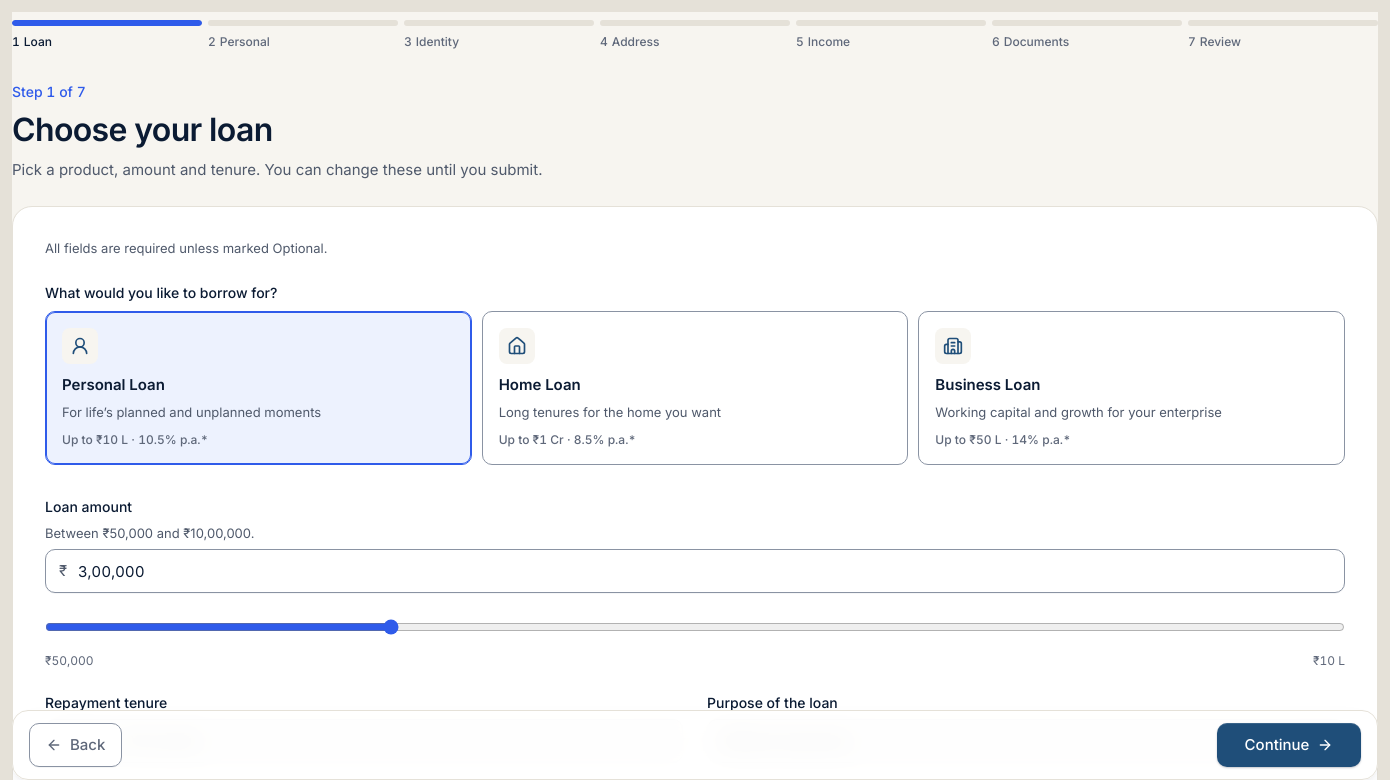
Scenario: fillDemoStep › fills the open step, and Continue moves on only through the normal validation
The width and height of the screenshot is (1390, 780).
Expected: the field labelled "Loan amount" holds "3,00,000", x1=45 y1=549 x2=1345 y2=593
Click the button "Continue" at (1289, 745), box x1=1217 y1=723 x2=1361 y2=767
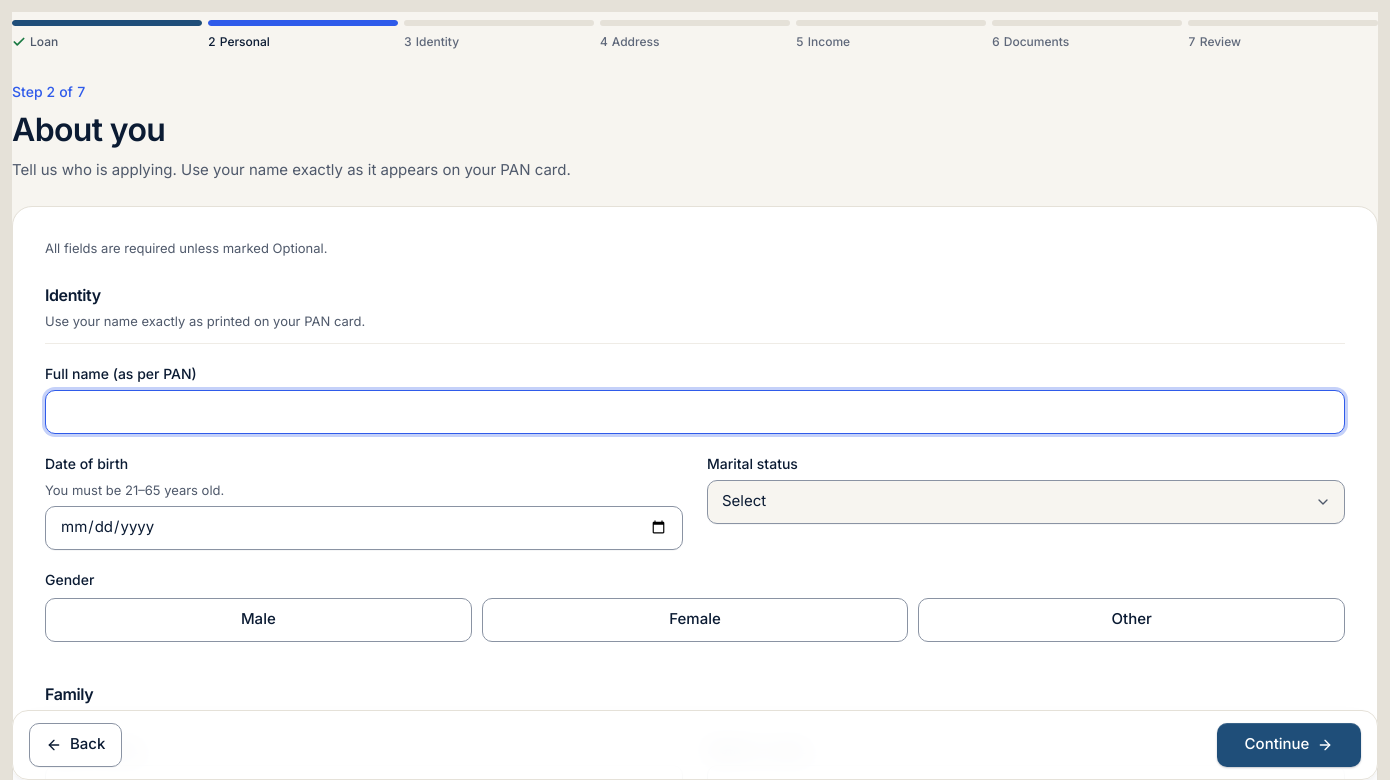
Expected: the heading "About you" is shown, x1=12 y1=110 x2=165 y2=149
